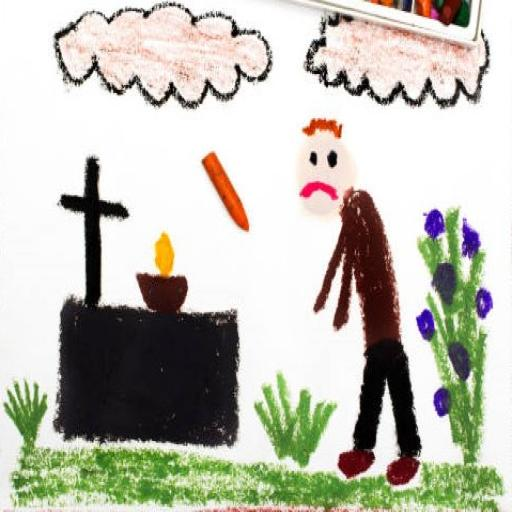person: (293, 111, 426, 487)
